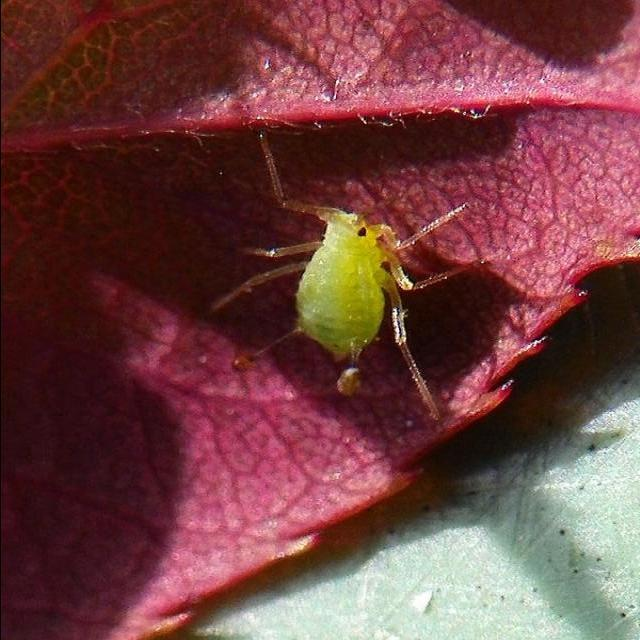aphid: (202, 112, 464, 430)
